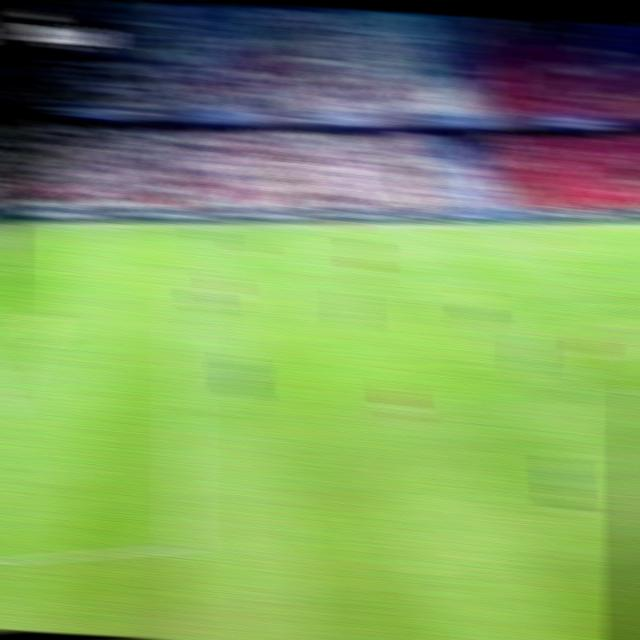bigarea_bottom_inner: (170, 535, 198, 552)
bigarea_top_inner: (172, 263, 198, 274)
bigarea_top_outter: (0, 261, 14, 279)
bottom_arc_area_intersection: (174, 405, 198, 418)
corner: (7, 220, 43, 238)
halfcircle_top: (594, 299, 618, 310)
midline_top_intersection: (482, 220, 522, 239)
top_arc_area_intersection: (174, 316, 198, 329)
